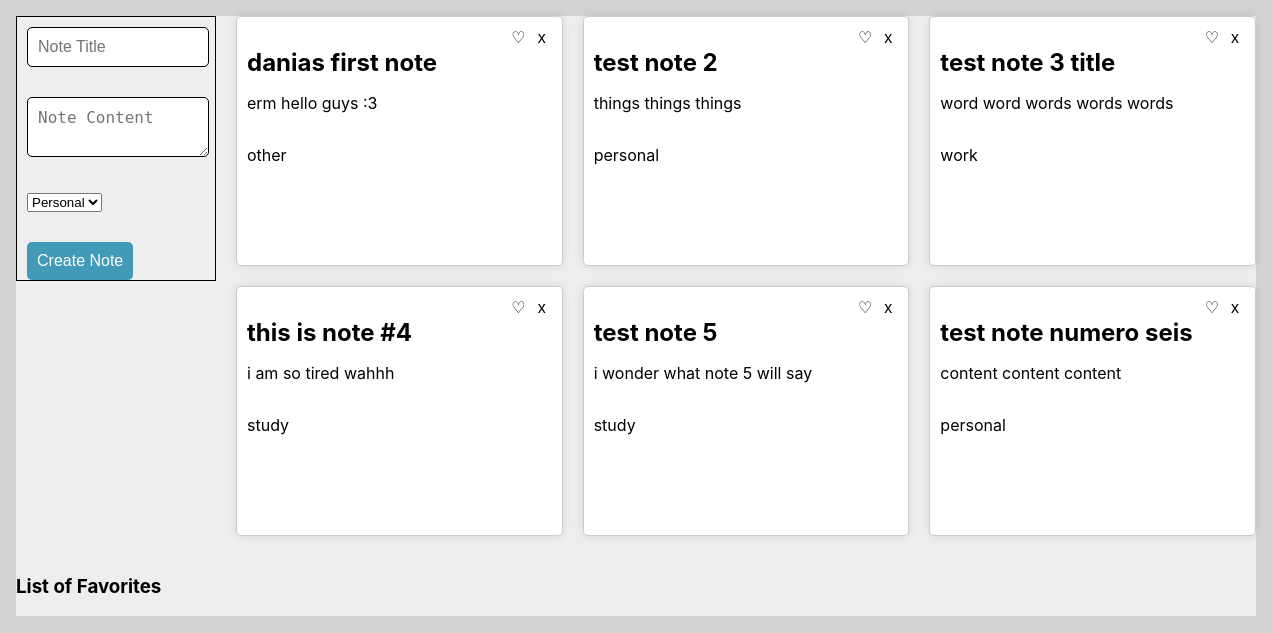
Test: displays 'No Notes' when all notes are deleted
Click the 1st button "x": click(542, 38) 532,27 -> 552,48
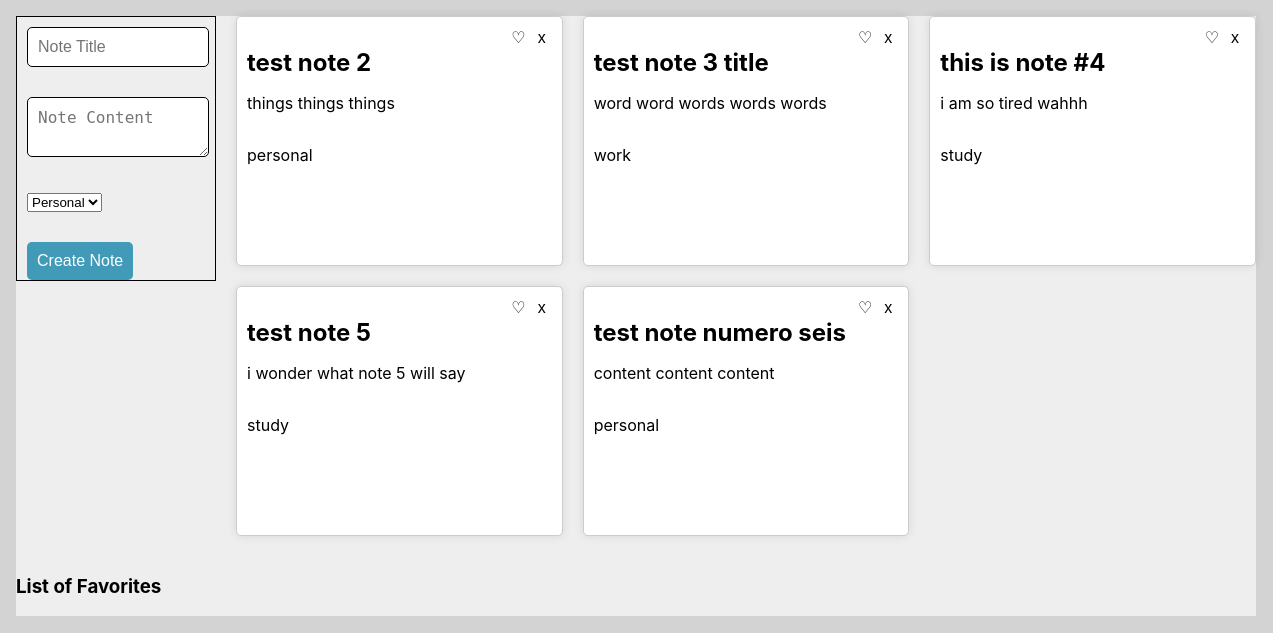
Click the 1st button "x": click(542, 38) 532,27 -> 552,48
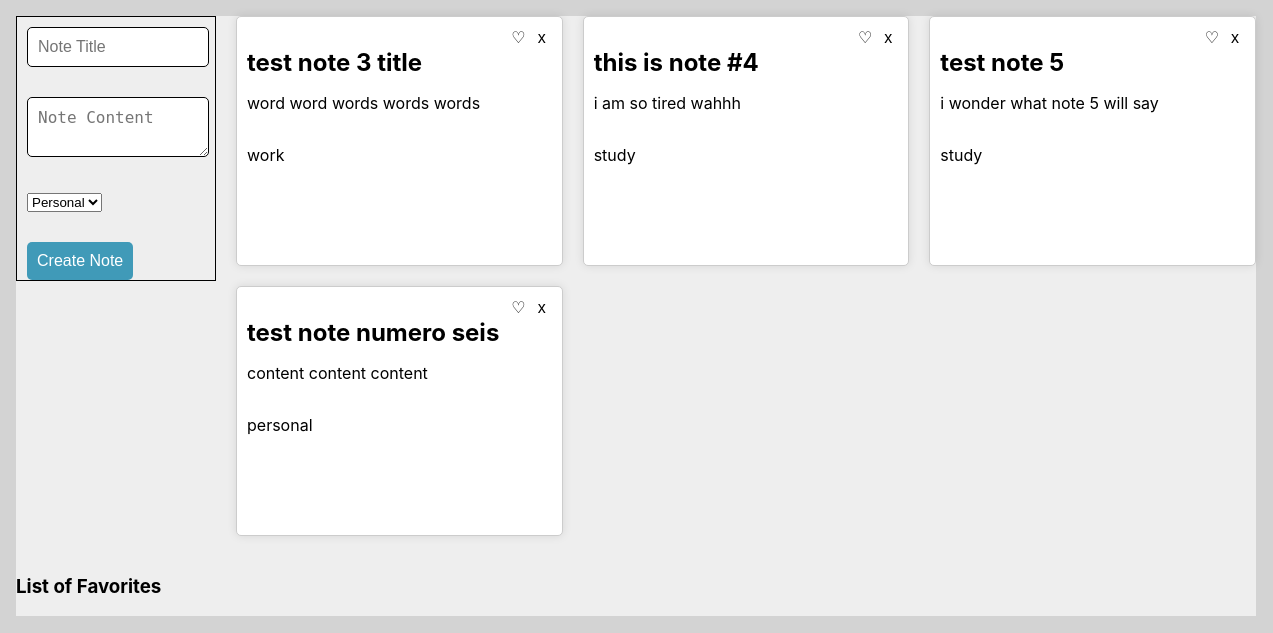
Click the 1st button "x": click(542, 38) 532,27 -> 552,48
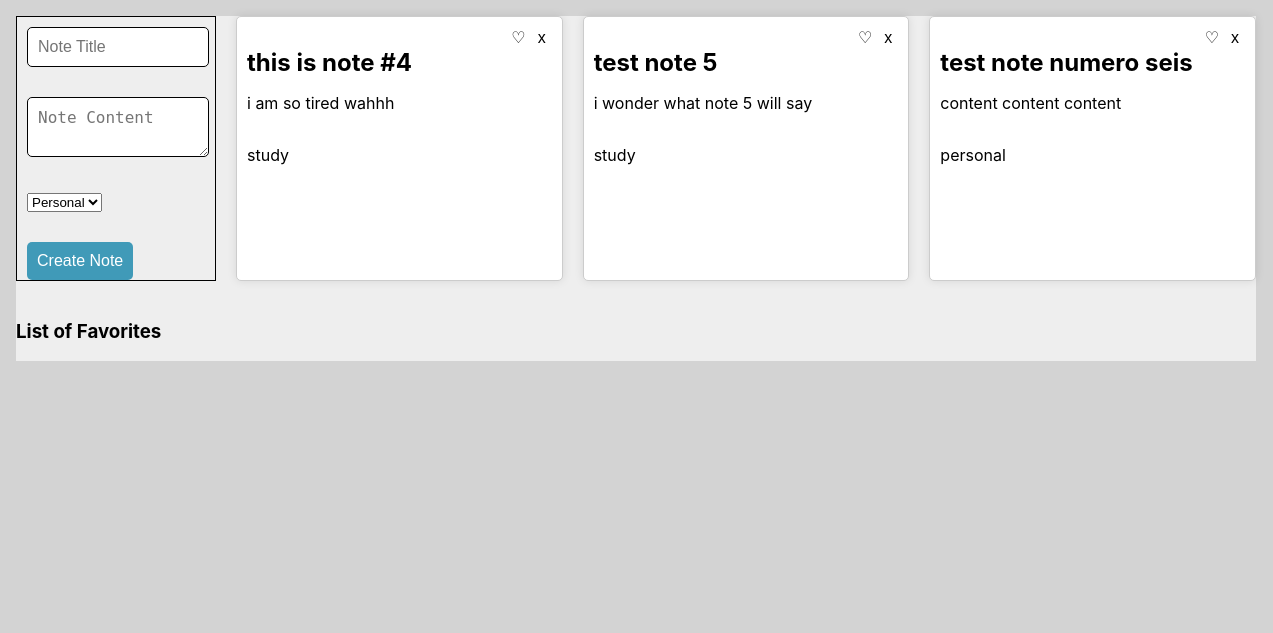
Click the 1st button "x": click(542, 38) 532,27 -> 552,48
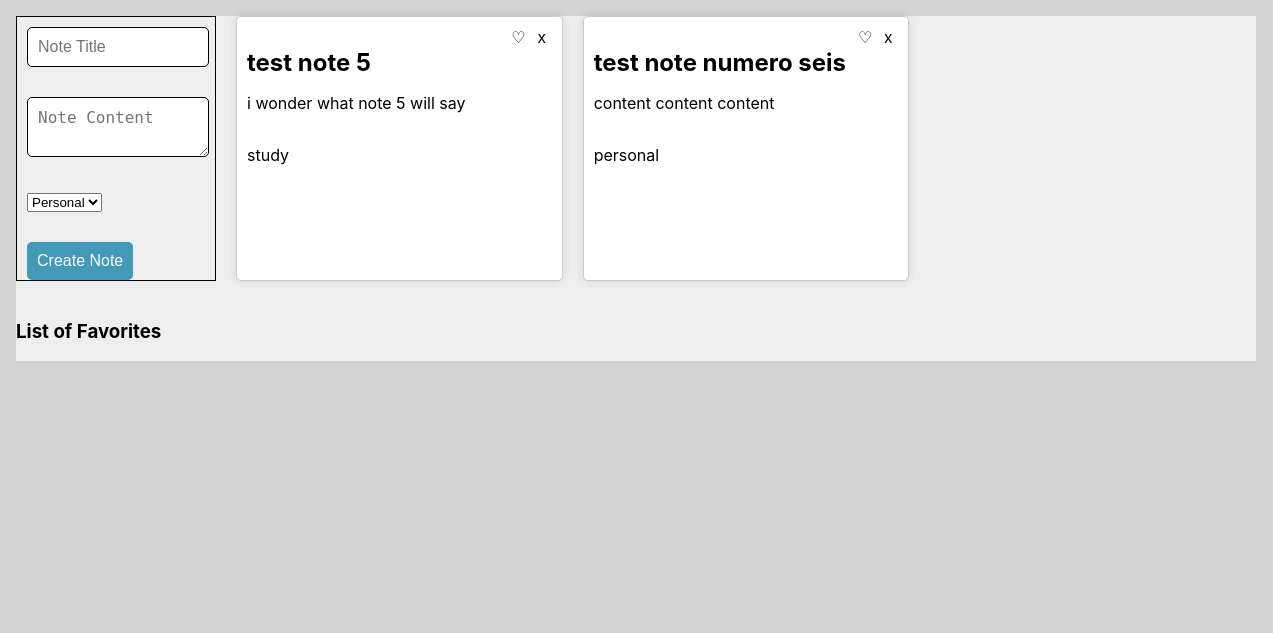
Click the 1st button "x": click(542, 38) 532,27 -> 552,48
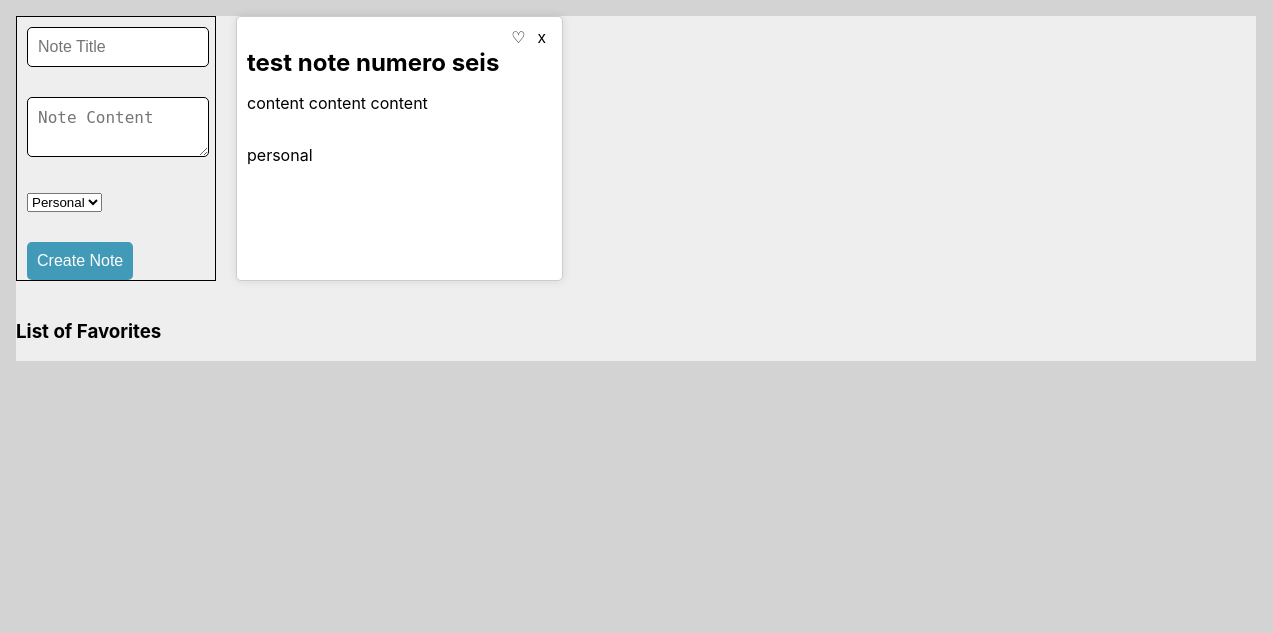
Click the button "x": click(542, 38) 532,27 -> 552,48
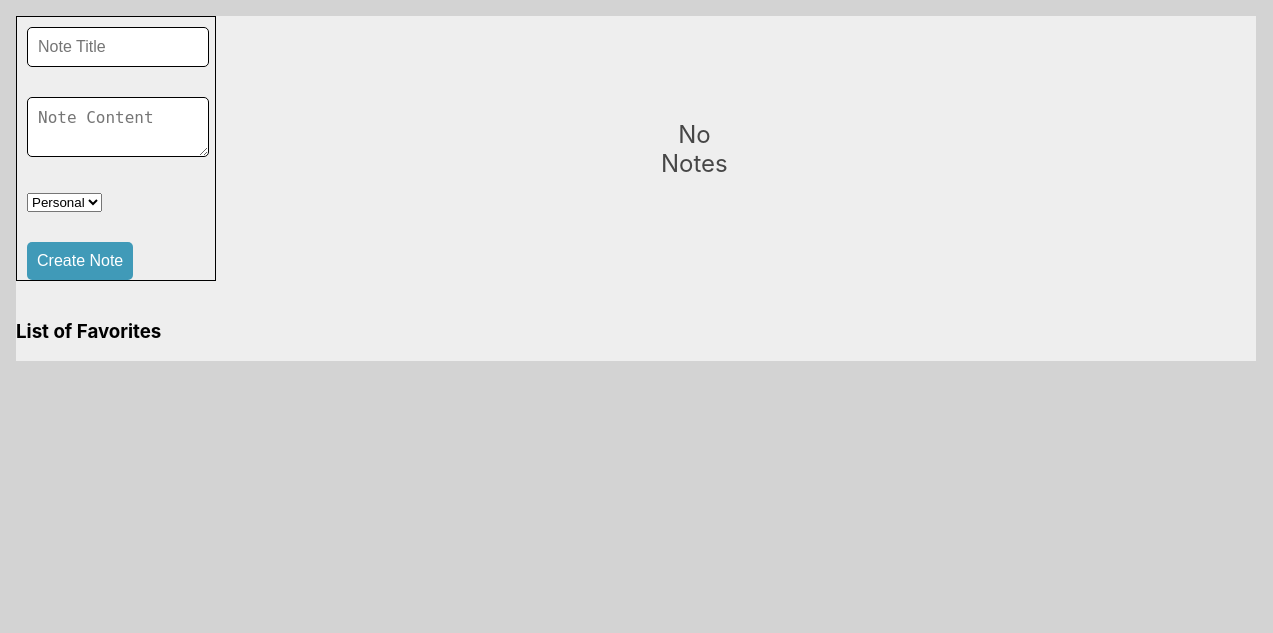
Expected: the text "No Notes" is shown, 661,120 -> 728,178
